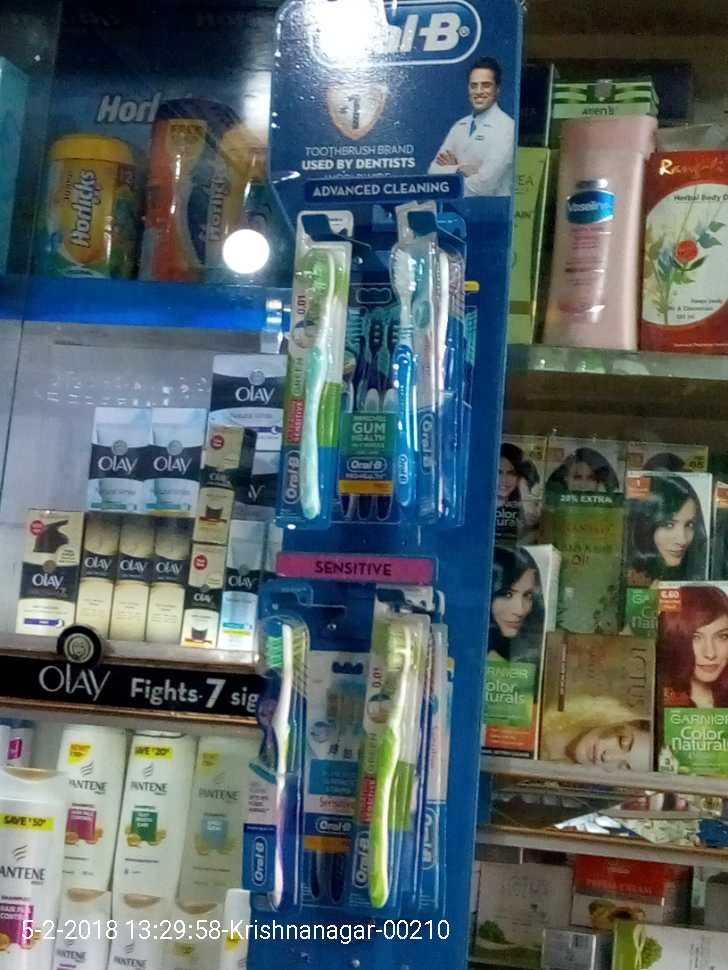beauty: (5, 711, 240, 966), (22, 505, 78, 636), (207, 347, 285, 435), (90, 415, 152, 514), (152, 408, 207, 515), (113, 510, 146, 637), (152, 519, 185, 643), (81, 515, 110, 639)
pharmacy: (379, 236, 458, 525), (356, 614, 421, 912), (245, 615, 296, 910), (292, 246, 338, 516)
